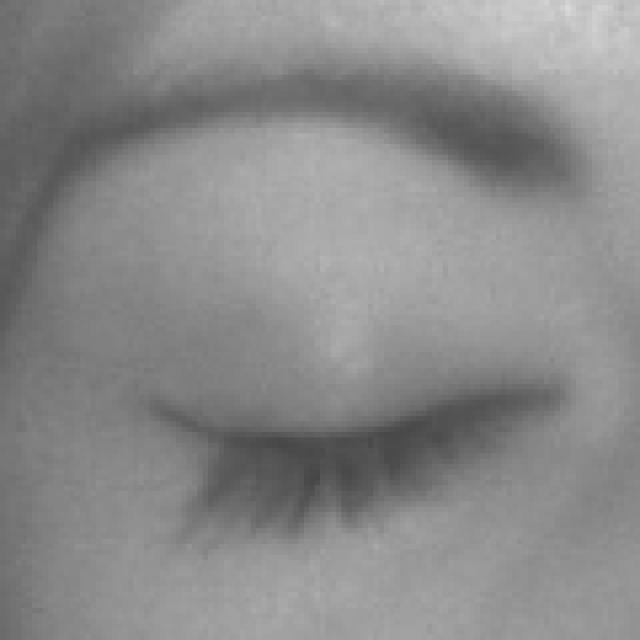Eyeclosed: (163, 238, 583, 634)
